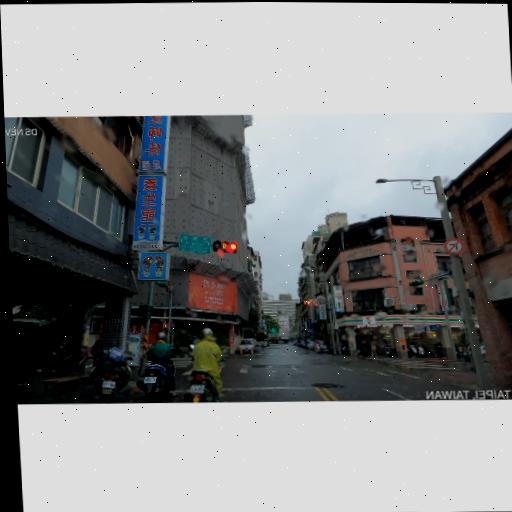Car: (459, 338, 491, 366), (238, 338, 256, 353), (317, 339, 333, 354), (304, 338, 316, 349), (255, 339, 265, 349), (308, 340, 316, 351), (302, 341, 309, 349), (260, 339, 268, 346), (293, 340, 299, 345)
